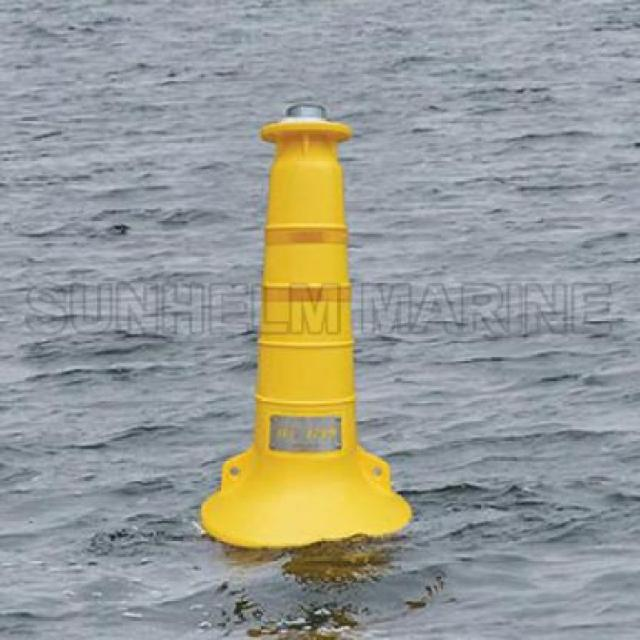a: (183, 92, 439, 564)
